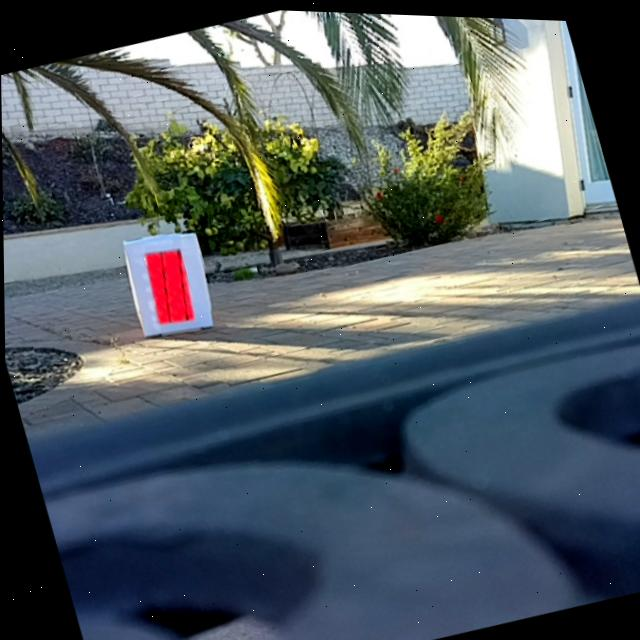led: (137, 239, 200, 327)
